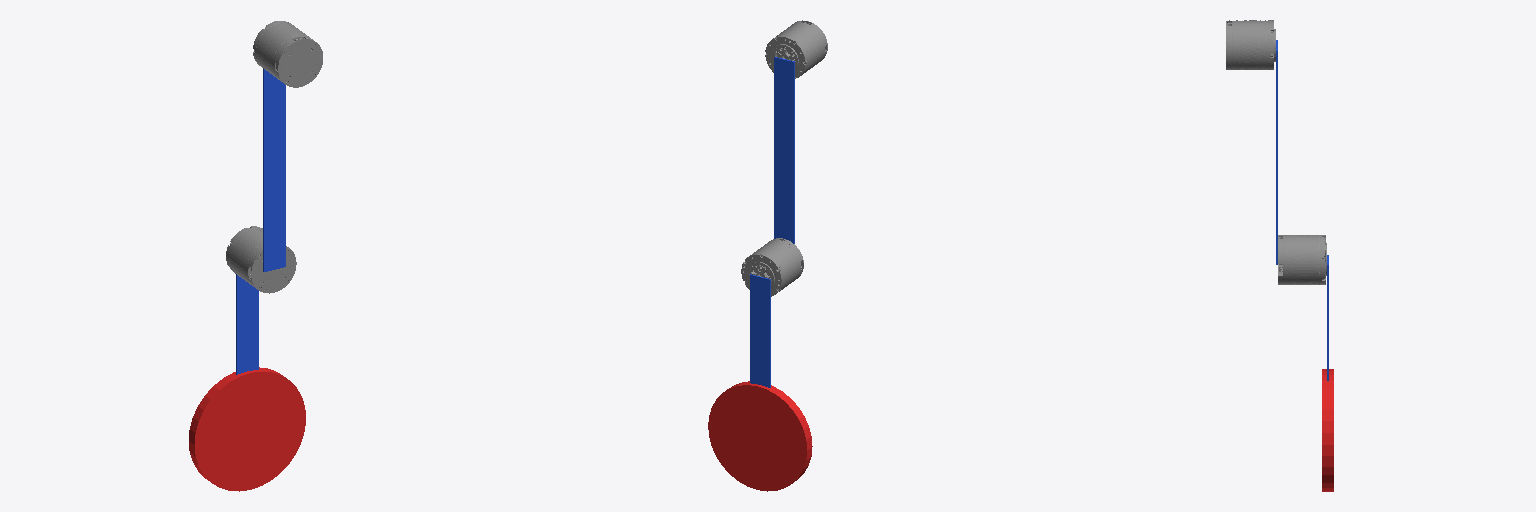
URDF robot description (dual_joint_1kg):
<?xml version="1.0"?>
<!--
  Gravity compensation test rig: two revolute joints in series (both DM-J4340P), 2.25 kg load at
  the tip of the second bar.

  base_link => joint1 (revolute about -Y) => arm_link
            => motor2_joint (fixed) => motor2_link            (2nd motor housing, rides on arm 1)
            => joint2 (revolute about -Y, +0.270 m along X) => arm2_link
            => load_joint (fixed, +0.215 m along X) => load_link

  joint1's origin is pitched +90 deg, so arm_link +X points straight down at q1 = 0.
  joint2 has no rotation offset, so at q2 = 0 arm 2 continues straight along arm 1.
  Both axes are -Y, so the absolute angle of arm 2 from vertical is (q1 + q2).
  - q1 = 0, q2 = 0     : both arms hanging straight down (-Z)
  - q1 = +pi/2, q2 = 0 : both arms horizontal, pointing +X (worst case for joint1)

  - Arm 1: flat bar, m = 0.164 kg, 270 mm long (X) x 28 mm wide (Z) x 2 mm thick (Y),
    pivoting at one end, so its COM is 0.135 m from joint1's axis.
  - Arm 2: flat bar, m = 0.150 kg, 215 mm long (X) x 28 mm wide (Z) x 2 mm thick (Y),
    pivoting at one end, so its COM is 0.1075 m from joint2's axis.
  - Motor 2: DM-J4340P, 57 mm dia x 56.5 mm, m = 0.362 kg (ASSUMED - weigh it and update
    motor2_link's mass). Its housing is bolted to the tip of arm 1 on the +Y side, so it sits
    0.270 m from joint1's axis. Arm 2 is mounted on its output flange, offset +Y from arm 1.
  - Load: annular disk, m = 2.25 kg, ID = 20 mm, OD = 70 mm, thickness = 13 mm, at the far end
    of arm 2 (0.215 m from joint2's axis), its own axis parallel to the joint axes (Y).

  Gravity torque depends only on mass and COM position (the Y offsets do not change it).

  Expected holding torque (what JntToGravity should return), g = 9.81:
      tau2 = g * (m_load * L2 + m_bar2 * L2/2) * sin(q1 + q2)
           = 9.81 * (2.25 * 0.215 + 0.15 * 0.1075) * sin(q1 + q2)
           = 4.9038 * sin(q1 + q2)                                         [Nm]
      tau1 = g * (m_bar1 * L1/2 + (m_motor2 + m_bar2 + m_load) * L1) * sin(q1) + tau2
           = 9.81 * (0.164 * 0.135 + (0.362 + 0.15 + 2.25) * 0.270) * sin(q1) + tau2
           = 7.5329 * sin(q1) + 4.9038 * sin(q1 + q2)                      [Nm]

      q1       q2        tau1 [Nm]   tau2 [Nm]
      0        0          0.0000      0.0000
      0        pi/2       4.9038      4.9038
      pi/4     0          8.7941      3.4675
      pi/4     pi/4      10.2304      4.9038
      pi/2     0         12.4367      4.9038
      pi/2    -pi/2       7.5329      0.0000
-->
<robot name="dual_joint_1kg">

  <material name="grey">
    <color rgba="0.6 0.6 0.6 1.0"/>
  </material>
  <material name="blue">
    <color rgba="0.2 0.4 0.9 1.0"/>
  </material>
  <material name="red">
    <color rgba="0.9 0.2 0.2 1.0"/>
  </material>

  <!-- Fixed base = DAMIAO DM-J4340P motor (57 mm dia x 56.5 mm). No inertial: it never moves,
       so it does not affect joint torques.
       meshes/dm4340p.stl is in metres, axis along +Y, output flange face at y = 0.
       Rotated 180 deg about Z so the body sits on -Y behind the bar, and shifted 1 mm so the
       flange touches the bar's back face (bar is 2 mm thick, centred on y = 0). -->
  <link name="base_link">
    <visual>
      <origin xyz="0 -0.001 0" rpy="0 0 3.14159"/>
      <geometry>
        <mesh filename="package://single_joint_description/meshes/dm4340p.stl"/>
      </geometry>
      <material name="grey"/>
    </visual>
    <collision>
      <origin xyz="0 -0.0293 0" rpy="1.5708 0 0"/>
      <geometry>
        <cylinder radius="0.0285" length="0.0565"/>
      </geometry>
    </collision>
  </link>

  <!-- Horizontal axis, so gravity loads the joint. Axis is -Y so positive q lifts the arm up.
       Peak gravity torque on joint1 is ~12.4 Nm (arms horizontal), so the effort limit is the
       motor's MIT torque range (28 Nm) instead of 10 Nm. -->
  <joint name="joint1" type="revolute">
    <parent link="base_link"/>
    <child link="arm_link"/>
    <!-- Zero offset: q = 0 points the arm down. -->
    <origin xyz="0 0 0" rpy="0 1.5708 0"/>
    <axis xyz="0 -1 0"/>
    <limit lower="-3.14159" upper="3.14159" effort="28.0" velocity="5.0"/>
  </joint>

  <!-- Arm 1: flat bar 0.270 x 0.002 x 0.028 m (X x Y x Z), 164 g, pivot at the x = 0 end.
       Box inertia about its COM, m/12 * (a^2 + b^2):
       ixx = m/12 * (t^2 + w^2) = 1.0769e-5
       iyy = m/12 * (L^2 + w^2) = 1.00702e-3
       izz = m/12 * (L^2 + t^2) = 9.9636e-4 -->
  <link name="arm_link">
    <inertial>
      <origin xyz="0.135 0 0" rpy="0 0 0"/>
      <mass value="0.164"/>
      <inertia ixx="1.0769e-5" ixy="0" ixz="0" iyy="1.00702e-3" iyz="0" izz="9.9636e-4"/>
    </inertial>
    <visual>
      <origin xyz="0.135 0 0" rpy="0 0 0"/>
      <geometry>
        <box size="0.270 0.002 0.028"/>
      </geometry>
      <material name="blue"/>
    </visual>
    <collision>
      <origin xyz="0.135 0 0" rpy="0 0 0"/>
      <geometry>
        <box size="0.270 0.002 0.028"/>
      </geometry>
    </collision>
  </link>

  <!-- Motor 2 housing, fixed to the tip of arm 1 on the +Y side.
       Frame origin = joint2's axis on arm 1's front face (x = 0.270, y = +0.001).
       Body spans y = 0 .. 0.0565 in this frame; output flange at y = 0.0565. -->
  <joint name="motor2_joint" type="fixed">
    <parent link="arm_link"/>
    <child link="motor2_link"/>
    <origin xyz="0.270 0.001 0" rpy="0 0 0"/>
  </joint>

  <!-- DM-J4340P as a solid cylinder, axis along Y, r = 0.0285 m, h = 0.0565 m.
       m = 0.362 kg (ASSUMED - weigh your motor and update).
       iyy       = m/2  * r^2              = 1.4702e-4
       ixx = izz = m/12 * (3 r^2 + h^2)    = 1.6981e-4
       Mesh rotated 180 deg about Z (body on -Y of the flange) and shifted so the flange
       sits at y = 0.0565, i.e. the body sits between arm 1 and arm 2. -->
  <link name="motor2_link">
    <inertial>
      <origin xyz="0 0.02825 0" rpy="0 0 0"/>
      <mass value="0.362"/>
      <inertia ixx="1.6981e-4" ixy="0" ixz="0" iyy="1.4702e-4" iyz="0" izz="1.6981e-4"/>
    </inertial>
    <visual>
      <origin xyz="0 0.0565 0" rpy="0 0 3.14159"/>
      <geometry>
        <mesh filename="package://single_joint_description/meshes/dm4340p.stl"/>
      </geometry>
      <material name="grey"/>
    </visual>
    <collision>
      <origin xyz="0 0.02825 0" rpy="1.5708 0 0"/>
      <geometry>
        <cylinder radius="0.0285" length="0.0565"/>
      </geometry>
    </collision>
  </link>

  <!-- Second joint: same motor, axis -Y like joint1, so positive q2 also lifts arm 2.
       Origin is on motor 2's flange; arm 2 (2 mm thick) is centred 1 mm in front of it.
       q2 = 0: arm 2 is in line with arm 1. -->
  <joint name="joint2" type="revolute">
    <parent link="motor2_link"/>
    <child link="arm2_link"/>
    <origin xyz="0 0.0575 0" rpy="0 0 0"/>
    <axis xyz="0 -1 0"/>
    <limit lower="-3.14159" upper="3.14159" effort="28.0" velocity="5.0"/>
  </joint>

  <!-- Arm 2: flat bar 0.215 x 0.002 x 0.028 m (X x Y x Z), 150 g, pivot at the x = 0 end.
       ixx = 9.850e-6, iyy = 5.8761e-4, izz = 5.7786e-4 (box inertia about its COM). -->
  <link name="arm2_link">
    <inertial>
      <origin xyz="0.1075 0 0" rpy="0 0 0"/>
      <mass value="0.150"/>
      <inertia ixx="9.850e-6" ixy="0" ixz="0" iyy="5.8761e-4" iyz="0" izz="5.7786e-4"/>
    </inertial>
    <visual>
      <origin xyz="0.1075 0 0" rpy="0 0 0"/>
      <geometry>
        <box size="0.215 0.002 0.028"/>
      </geometry>
      <material name="blue"/>
    </visual>
    <collision>
      <origin xyz="0.1075 0 0" rpy="0 0 0"/>
      <geometry>
        <box size="0.215 0.002 0.028"/>
      </geometry>
    </collision>
  </link>

  <!-- Load now sits at the tip of arm 2. -->
  <joint name="load_joint" type="fixed">
    <parent link="arm2_link"/>
    <child link="load_link"/>
    <origin xyz="0.215 0 0" rpy="0 0 0"/>
  </joint>

  <!-- 2.25 kg disk at the tip, axis along Y.
       Inertia only affects dynamics, not the gravity torque. -->
  <link name="load_link">
    <inertial>
      <origin xyz="0 0 0" rpy="0 0 0"/>
      <mass value="2.25"/>
      <inertia
        ixx="7.769925e-4"
        ixy="0"
        ixz="0"
        iyy="1.490625e-3"
        iyz="0"
        izz="7.769925e-4"/>
    </inertial>

    <!-- Solid cylinder, cylinder Z rotated to Y -->
    <visual>
      <origin xyz="0 0 0" rpy="1.5708 0 0"/>
      <geometry>
        <cylinder radius="0.07" length="0.013"/>
      </geometry>
      <material name="red"/>
    </visual>

    <collision>
      <origin xyz="0 0 0" rpy="1.5708 0 0"/>
      <geometry>
        <cylinder radius="0.07" length="0.013"/>
      </geometry>
    </collision>
  </link>

  <!-- ros2_control block: two DM4340 on can0 (IDs 1 and 2), driven by hw_interface in MIT mode.
       ArmHardwareInterface has no zero offset (q = motor position * direction), so both motors'
       zeros must be set with both arms hanging straight down (q1 = q2 = 0 in this URDF).
       kp / kd / direction / control_modes are per motor (comma separated, same order as
       motor_ids); p_max / v_max / t_max take one value for all motors. -->
  <ros2_control name="DualJointSystem" type="system">
    <hardware>
      <plugin>arm_hardware/ArmHardwareInterface</plugin>

      <param name="can_interface">can0</param>
      <param name="motor_ids">1,2</param>
      <!-- kp 0: the arms are moved by hand and joint_cmd's position target has no effect.
           Raise it to make the joints follow /joint_cmd. -->
      <param name="kp">0.0,0.0</param>
      <param name="kd">0.05,0.05</param>
      <!-- Motor positive moves opposite to URDF positive. Check motor 2's sign on the rig:
           mounted the same way as motor 1 it should also be -1. -->
      <param name="direction">-1,-1</param>
      <param name="control_modes">mit,mit</param>
      <!-- MIT mapping ranges: must equal the motor's PMAX/VMAX/TMAX registers
           (DM4340 scan: 12.5 / 10 / 28). Wrong values scale torque/velocity. -->
      <param name="p_max">12.5</param>
      <param name="v_max">10.0</param>
      <param name="t_max">28.0</param>

    </hardware>
    <joint name="joint1">
      <param name="type">revolute</param>
      <command_interface name="position"/>
      <command_interface name="velocity"/>
      <command_interface name="effort"/>
      <state_interface name="position"/>
      <state_interface name="velocity"/>
      <state_interface name="effort"/>
    </joint>
    <joint name="joint2">
      <param name="type">revolute</param>
      <command_interface name="position"/>
      <command_interface name="velocity"/>
      <command_interface name="effort"/>
      <state_interface name="position"/>
      <state_interface name="velocity"/>
      <state_interface name="effort"/>
    </joint>
  </ros2_control>

</robot>

--- What the picture shows (computed from the rendered views, not written in the file) ---
Views: 3 orthographic renders of the robot side by side, from view 1: azimuth 30°, elevation 25°; view 2: azimuth 150°, elevation 25°; view 3: azimuth 270°, elevation 25°.
Model dual_joint_1kg with 5 links and 4 joints (2 revolute, 2 fixed), rooted at base_link, posed all joints at 0.
Visible links, largest first — view 1: load_link, arm_link, base_link, motor2_link, arm2_link; view 2: load_link, arm_link, arm2_link, motor2_link, base_link; view 3: base_link, motor2_link, load_link.
Link boxes in pixels (<box>): load_link: <box>189,367,305,491</box>; arm_link: <box>263,69,285,271</box>; base_link: <box>253,21,322,87</box>; motor2_link: <box>226,226,296,293</box>; arm2_link: <box>236,274,258,374</box>; load_link: <box>708,381,812,491</box>; arm_link: <box>774,57,794,243</box>; arm2_link: <box>750,274,770,387</box>; motor2_link: <box>741,238,803,296</box>; base_link: <box>765,20,827,78</box>; base_link: <box>1226,20,1275,69</box>; motor2_link: <box>1278,235,1326,284</box>; load_link: <box>1322,369,1333,491</box>.
Size in the robot's own frame: 0.14 by 0.1225 by 0.5835 metres.
Meshes: 1 distinct files referenced, 2 mesh visuals loaded (1 binary STL).
